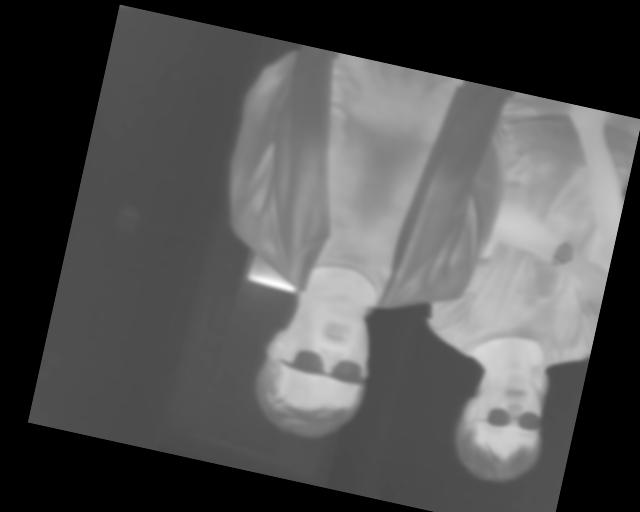face: (244, 285, 385, 449), (445, 363, 556, 491)
